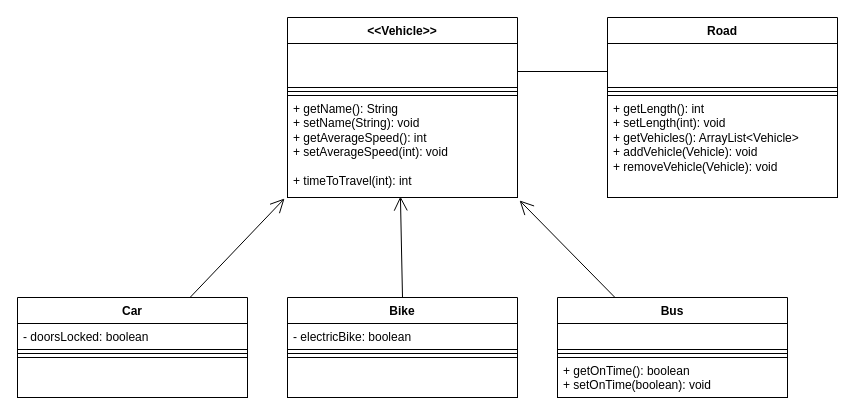
Image size: 855x418. Some labels were removed from this diagram. The box of each missing label's shape, as (x1, y1, x2, y2) in pixels:
+ getDoorsLocked(): boolean + setDoorsLocked(boolean): void: (16, 356, 248, 398)
+ getElectricBike(): boolean + setElectricBike(boolean): void: (286, 356, 518, 398)
- length: int - vehicles: ArrayList<Vehicle>: (606, 42, 838, 88)
- name: String - averageSpeed: int: (286, 42, 518, 88)
- onTime: boolean: (556, 322, 788, 350)
